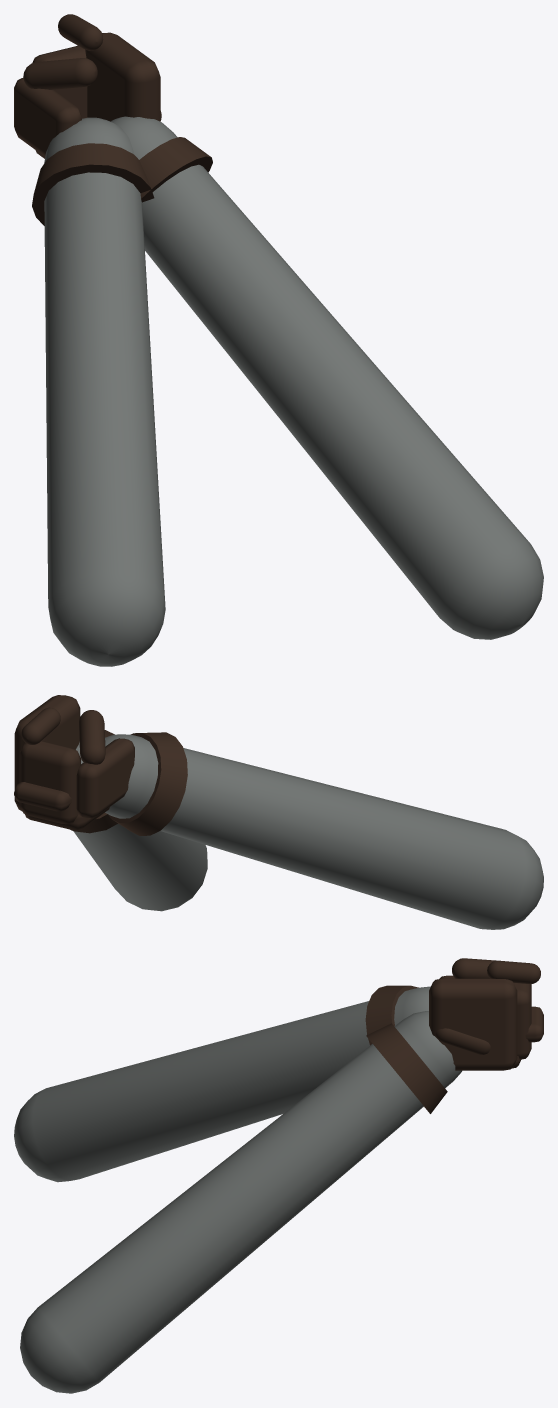
The model's file is pebble.glb.
The picture shows the model from 3 angles, top to bottom: view 1: azimuth 30°, elevation 25°; view 2: azimuth 150°, elevation 25°; view 3: azimuth 270°, elevation 25°; orthographic projection. The views are drawn at different scales.
Visible parts, largest first — view 1: forearm_R, forearm_L, palm_R, cuff_L, fingers_L, cuff_R, thumb_R, trigger_finger_R, fingers_R; view 2: forearm_L, forearm_R, cuff_L, fingers_R, fingers_L, palm_R, thumb_R, knuckles_R, trigger_finger_R, cuff_R, palm_L; view 3: forearm_R, forearm_L, palm_R, cuff_R, cuff_L, fingers_R, trigger_finger_R, thumb_L, thumb_R.
Boxes of the visible parts, x1=… form: forearm_R: x1=110, y1=116, x2=543, y2=639; forearm_L: x1=44, y1=117, x2=165, y2=666; palm_R: x1=85, y1=32, x2=160, y2=121; cuff_L: x1=32, y1=143, x2=154, y2=225; fingers_L: x1=14, y1=78, x2=81, y2=156; cuff_R: x1=139, y1=137, x2=212, y2=202; thumb_R: x1=23, y1=58, x2=97, y2=89; trigger_finger_R: x1=58, y1=14, x2=103, y2=50; fingers_R: x1=32, y1=45, x2=87, y2=118; forearm_L: x1=105, y1=734, x2=543, y2=929; forearm_R: x1=73, y1=742, x2=207, y2=911; cuff_L: x1=108, y1=732, x2=187, y2=835; fingers_R: x1=19, y1=741, x2=80, y2=824; fingers_L: x1=76, y1=738, x2=134, y2=818; palm_R: x1=14, y1=695, x2=80, y2=811; thumb_R: x1=79, y1=710, x2=105, y2=764; knuckles_R: x1=14, y1=782, x2=71, y2=811; trigger_finger_R: x1=21, y1=707, x2=60, y2=744; cuff_R: x1=70, y1=730, x2=117, y2=833; palm_L: x1=25, y1=807, x2=109, y2=829; forearm_R: x1=20, y1=1011, x2=461, y2=1393; forearm_L: x1=14, y1=986, x2=430, y2=1182; palm_R: x1=429, y1=978, x2=517, y2=1070; cuff_R: x1=366, y1=1023, x2=447, y2=1113; cuff_L: x1=365, y1=985, x2=418, y2=1045; fingers_R: x1=514, y1=983, x2=531, y2=1059; trigger_finger_R: x1=487, y1=960, x2=540, y2=983; thumb_L: x1=435, y1=1028, x2=490, y2=1054; thumb_R: x1=452, y1=958, x2=495, y2=978.
Size of the model in its own units: 0.4161 by 0.3715 by 0.4788.
